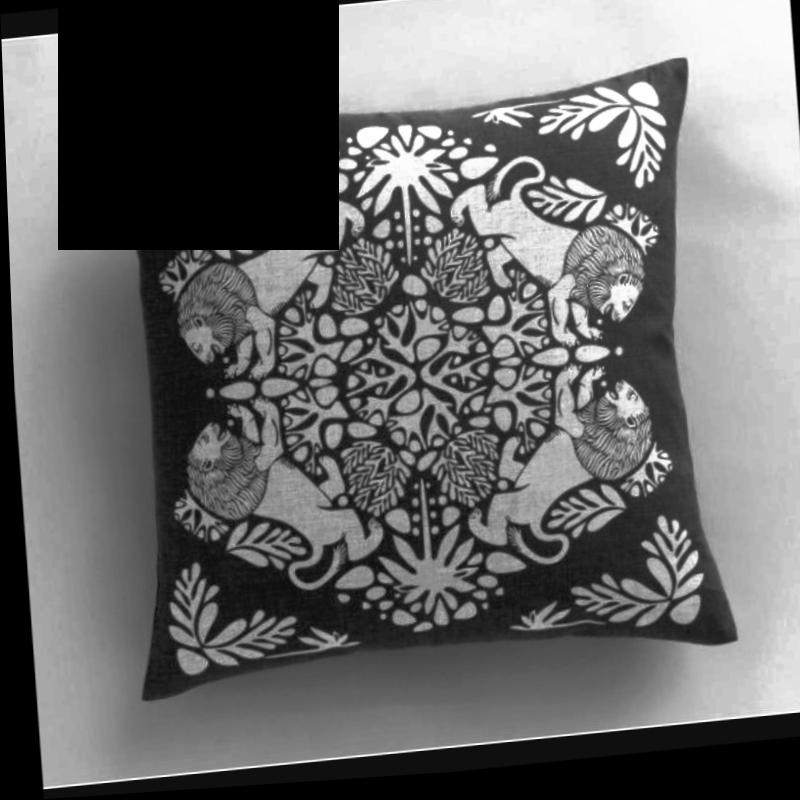pillow: (99, 62, 731, 702)
